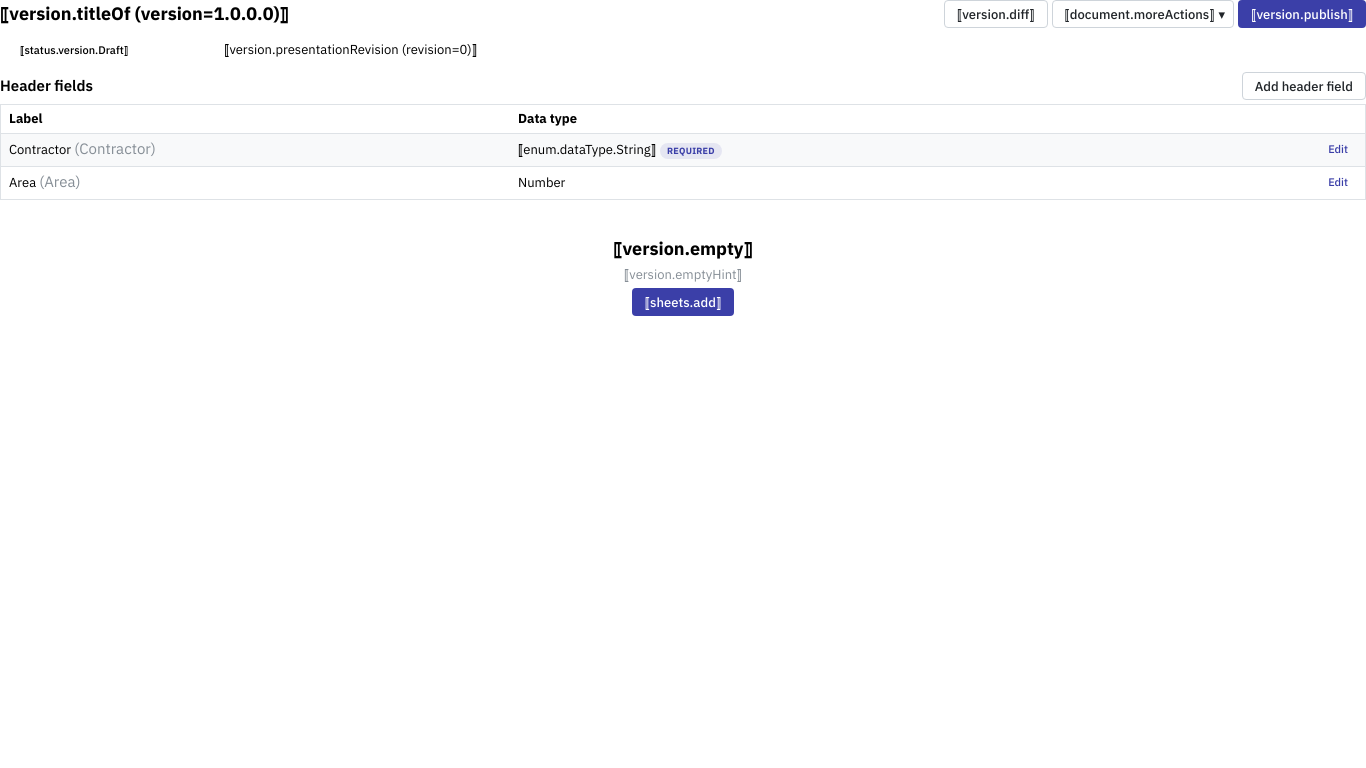
Scenario: TemplateVersionPage: поля шапки документа › «Правити» відкриває форму, попередньо заповнену полем
Expected: the text "(Contractor)" is shown, x1=74 y1=139 x2=156 y2=158
Click the button "Edit" in the row of "⟦enum.dataType.String⟧" at (1338, 150), box x1=1319 y1=138 x2=1357 y2=162
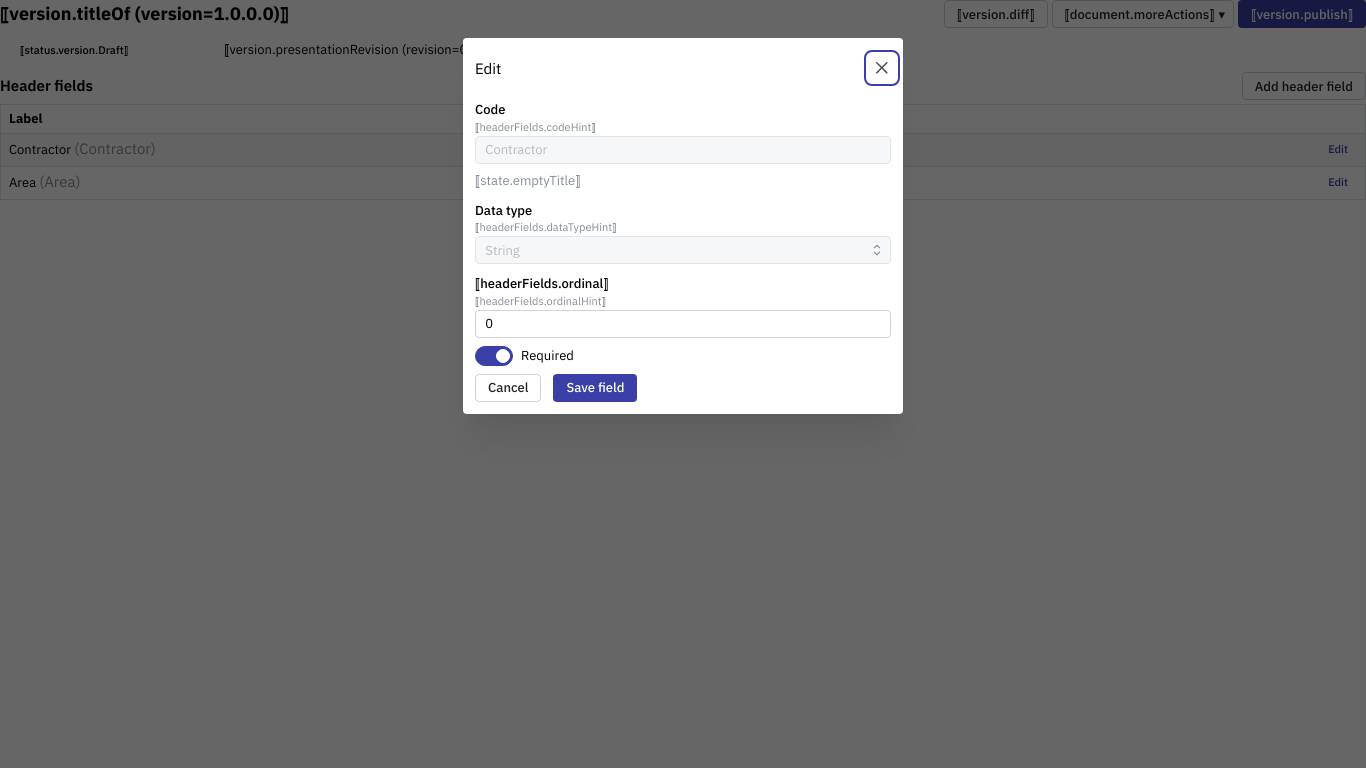
Result: the field labelled "Code" holds "Contractor" at x1=475 y1=136 x2=891 y2=164
Result: the field labelled "Code" is disabled at x1=475 y1=136 x2=891 y2=164
